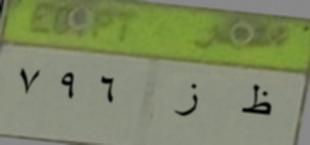6: (95, 68, 121, 109)
7: (16, 59, 43, 100)
9: (52, 69, 85, 104)
Thaa: (234, 81, 279, 124)
zay: (169, 72, 206, 122)
